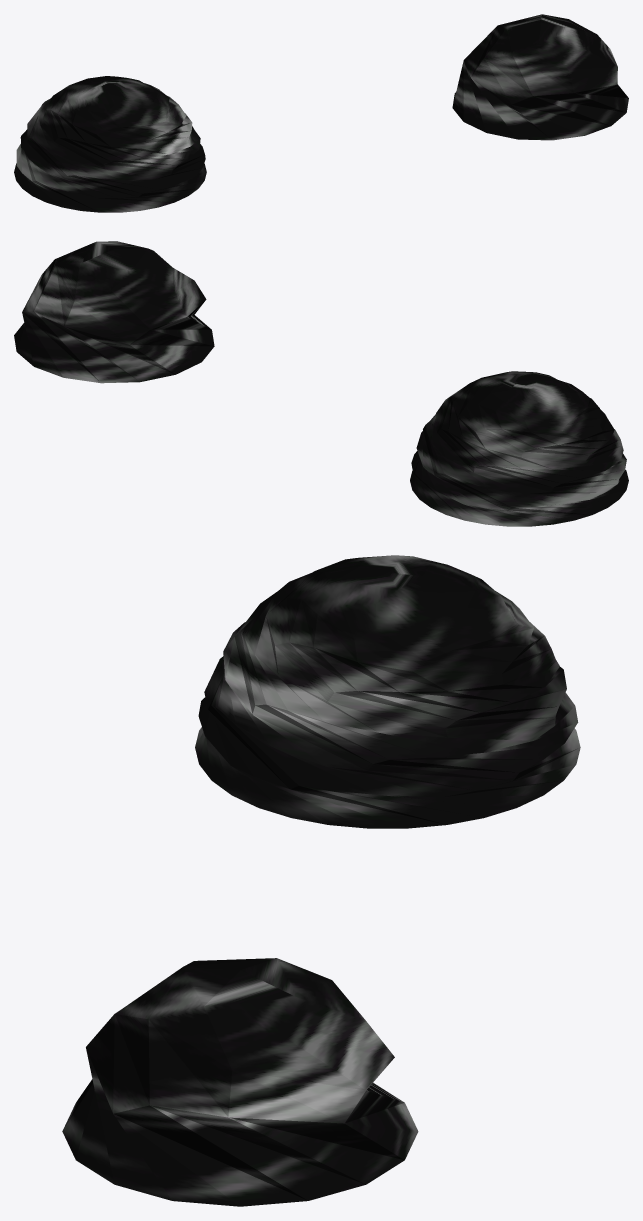
File: hsher-001.FBX
The picture shows the model from 3 angles, top to bottom: view 1: azimuth 30°, elevation 25°; view 2: azimuth 150°, elevation 25°; view 3: azimuth 270°, elevation 25°; orthographic projection. The views are drawn at different scales.
Visible parts, largest first — view 1: GeoSphere002, GeoSphere001; view 2: GeoSphere002, GeoSphere001; view 3: GeoSphere002, GeoSphere001.
Boxes of the visible parts, x1=… form: GeoSphere002: x1=14, y1=76, x2=206, y2=212; GeoSphere001: x1=452, y1=14, x2=628, y2=140; GeoSphere002: x1=410, y1=371, x2=628, y2=526; GeoSphere001: x1=14, y1=241, x2=214, y2=383; GeoSphere002: x1=195, y1=555, x2=580, y2=828; GeoSphere001: x1=62, y1=958, x2=418, y2=1206.
Size of the model in its own units: 331 by 50 by 134.
